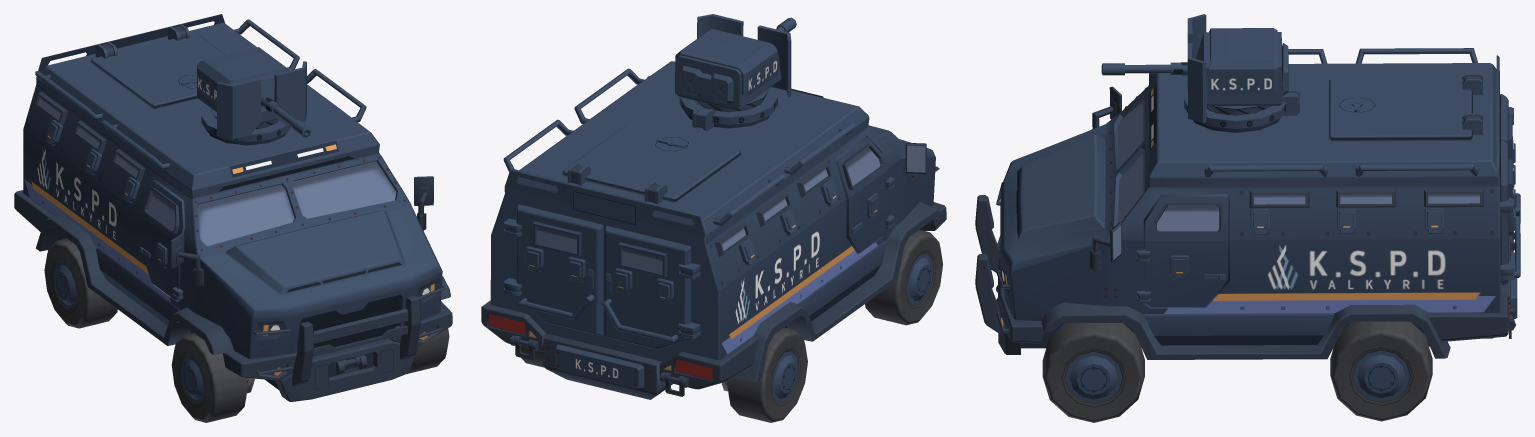
File: lenco_bearcat_valkyriewakamos_swat_van.glb
3 renders of one model, left to right at view 1: azimuth 30°, elevation 25°; view 2: azimuth 150°, elevation 25°; view 3: azimuth 270°, elevation 25°, orthographic. The views are drawn at different scales.
Visible parts, largest first — view 1: Object_2; view 2: Object_2; view 3: Object_2.
Boxes of the visible parts, left/top/right/bottom form: Object_2: left=14, top=14, right=452, bottom=422; Object_2: left=481, top=14, right=946, bottom=422; Object_2: left=975, top=14, right=1520, bottom=422.
Bounding box in the file's own units: 15.4 × 15.88 × 24.46.
Materials: 1 (1 with a texture image).
